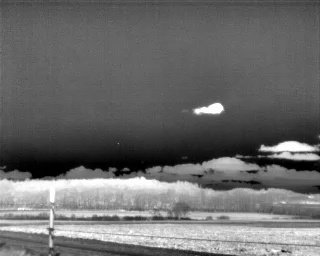DRONE: (190, 97, 226, 120)
